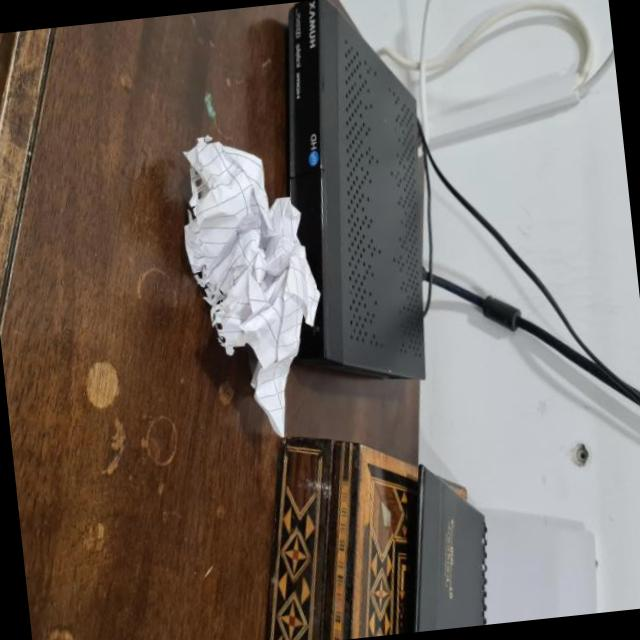cardboard paper: (186, 137, 321, 436)
